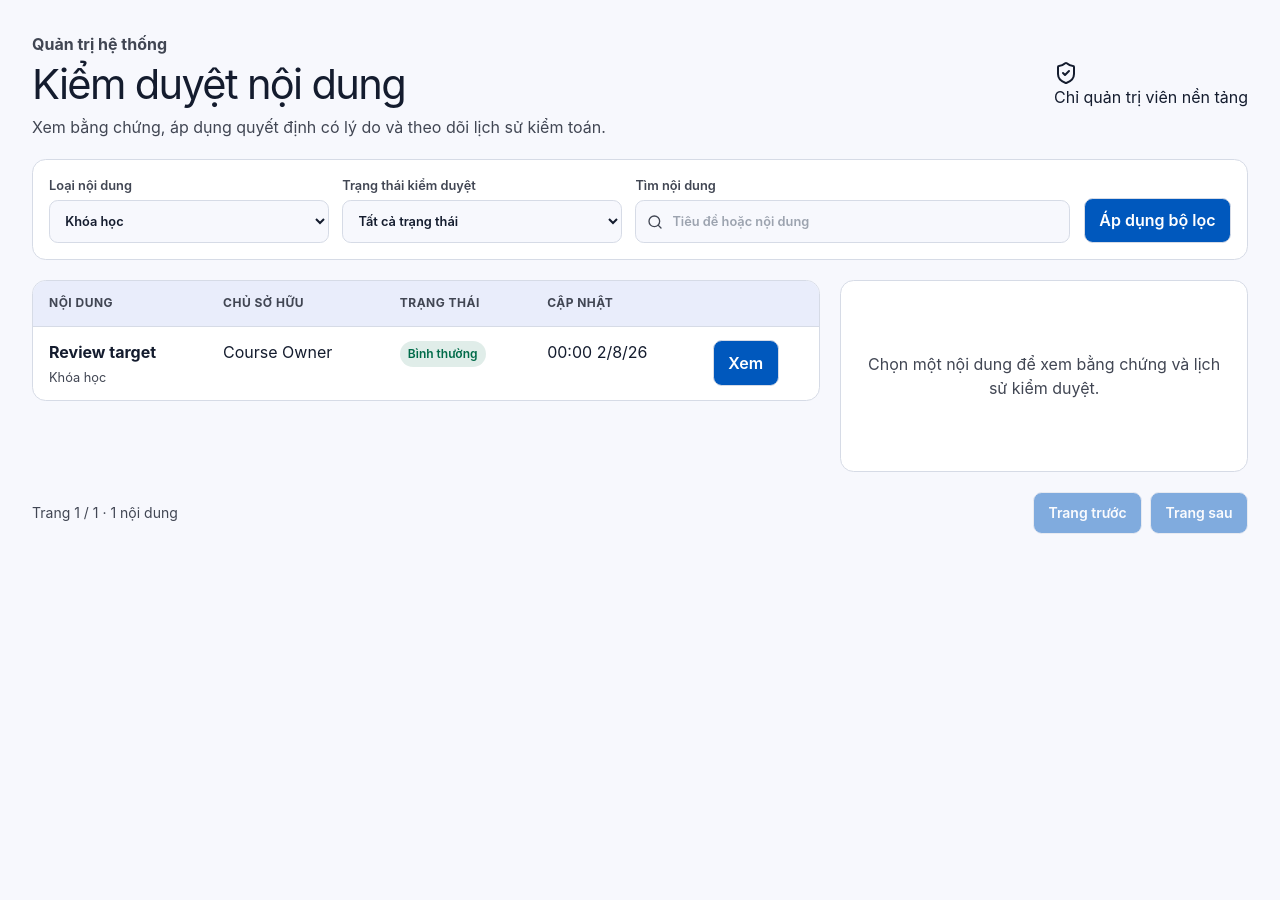
Scenario: AdminModerationPage › loads review evidence and audit history for the selected target
The width and height of the screenshot is (1280, 900).
Step 1. Click the button with aria-label "Xem Review target" → (746, 363), box [713,340,779,386]
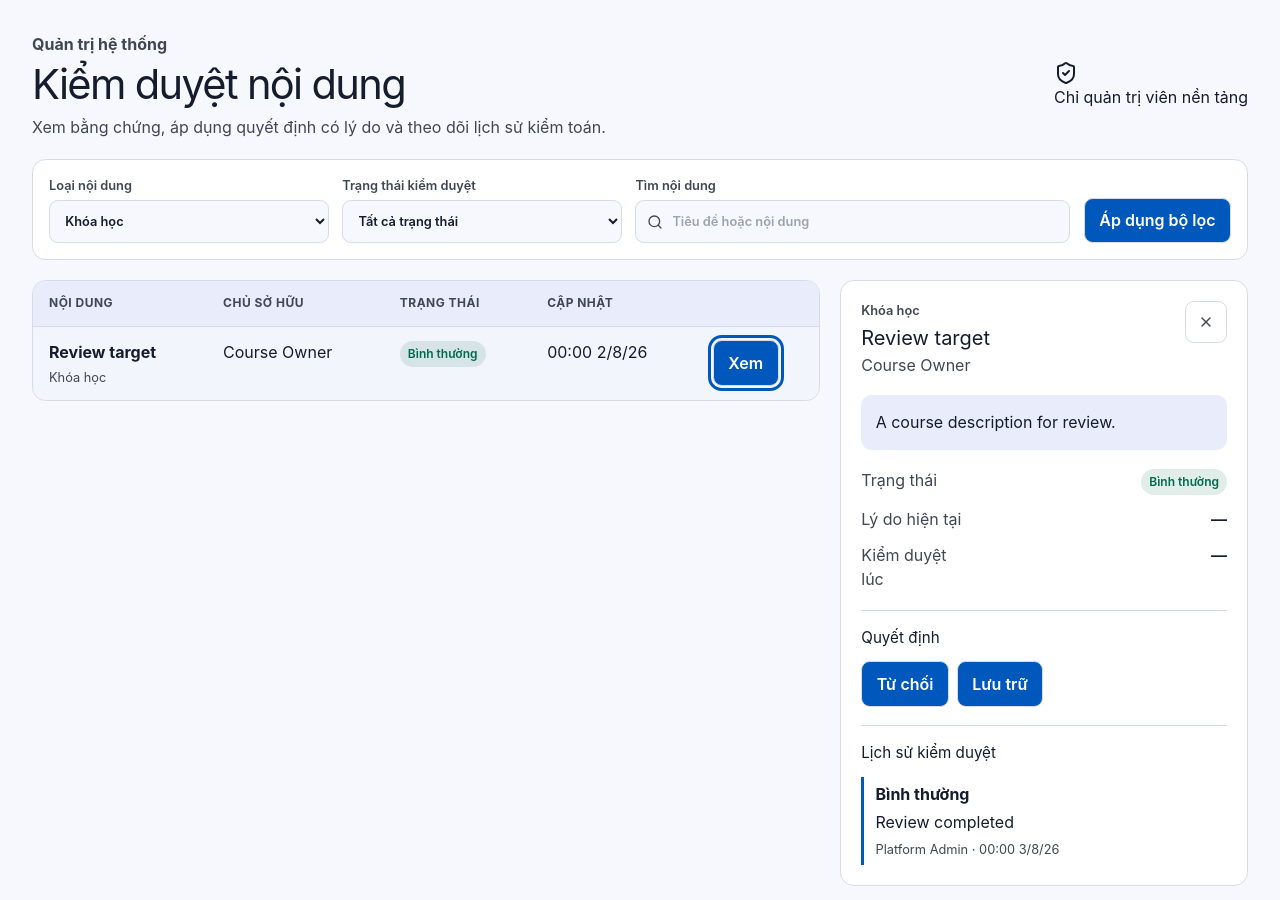
Now the heading "Review target" is shown, box [861,323,990,353]
Now the text "A course description for review." is shown, box [861,396,1227,450]
Now the text "Review completed" is shown, box [876,812,1014,832]
